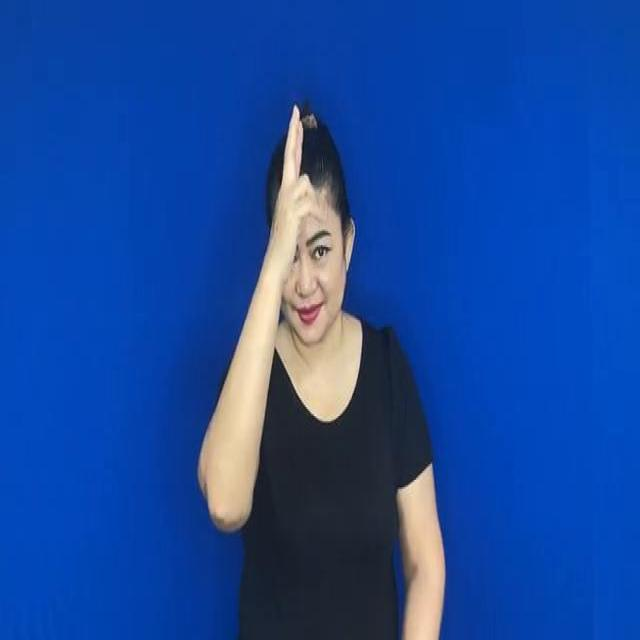chicken: (268, 98, 322, 283)
